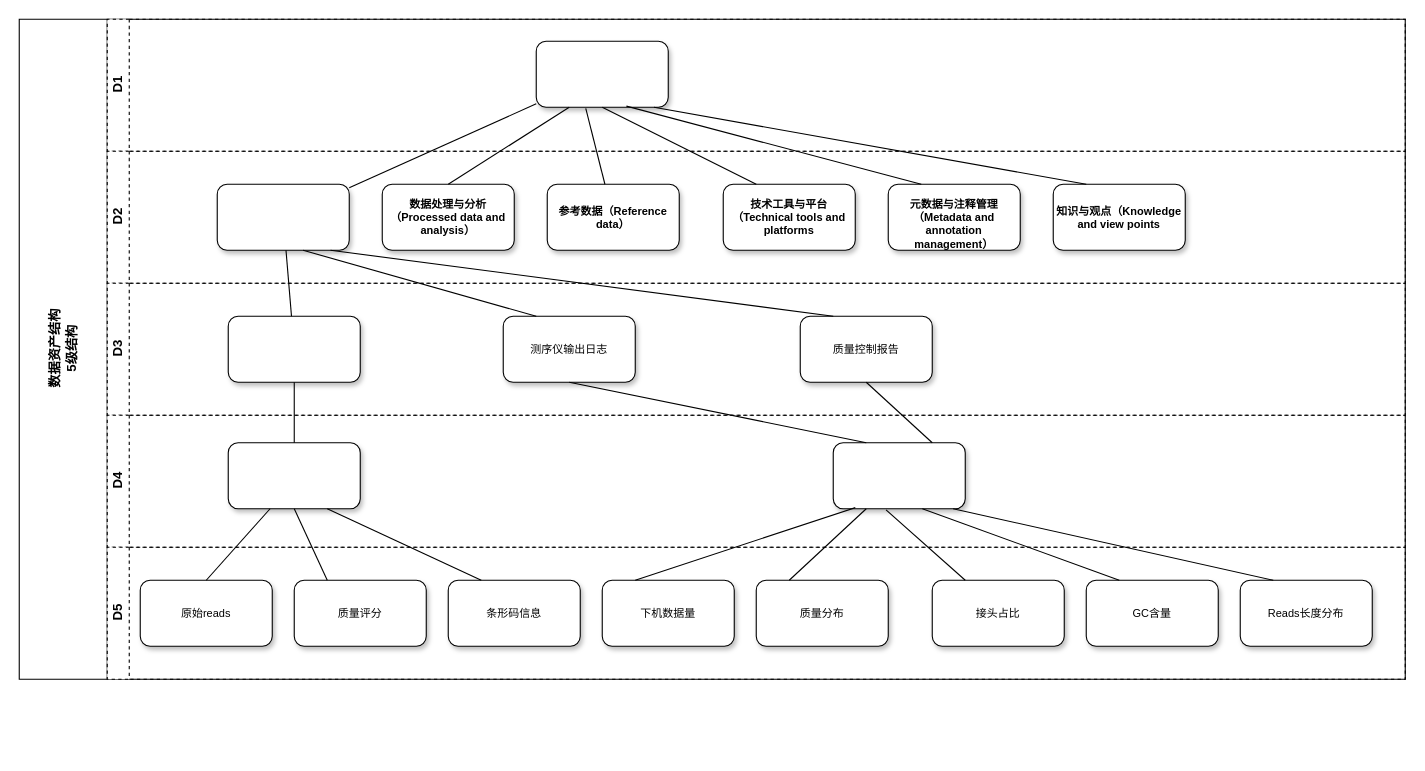
The diagram is 1425 pixels wide and 771 high, and some of its shapes have lost their labels. The centre of each missing label's shape, as x and y in pixels:
FASTQ 文件（原始测序数据）: the point at 295,350
单细胞组学: the point at 603,75
原始数据管理（ RAW data management ）: the point at 284,218
原始质量控制实体: the point at 900,476
测序数据实体: the point at 295,476
